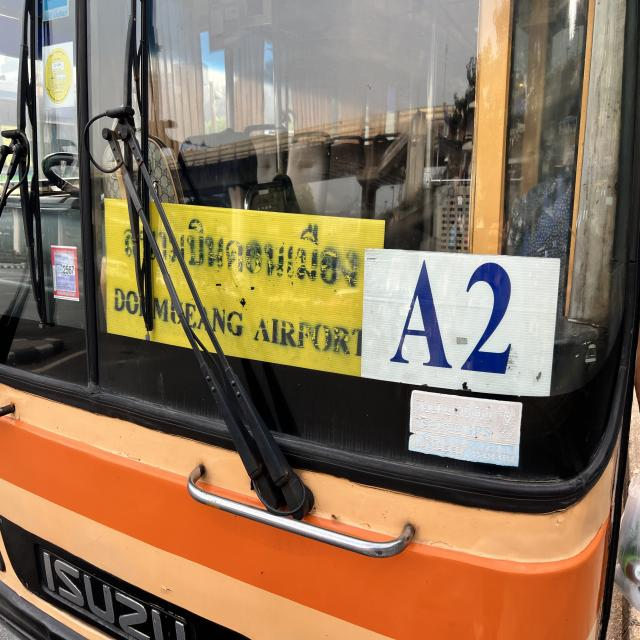BMTA-bus: (0, 0, 640, 640)
Destination-Sign-Normal-Expressway: (104, 196, 388, 384)
